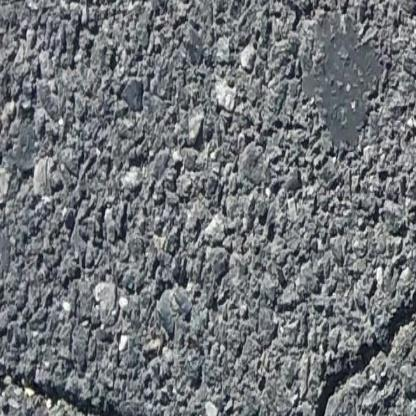Cracks: (307, 272, 416, 416), (0, 363, 152, 416)
